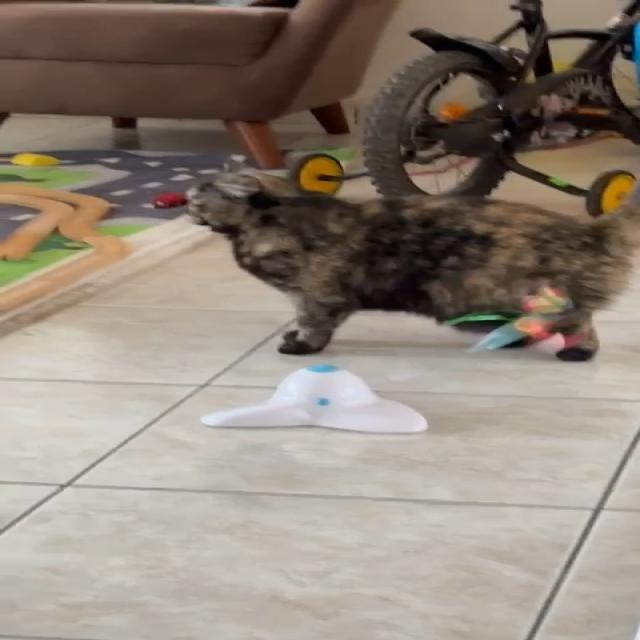authorized: (183, 159, 637, 362)
